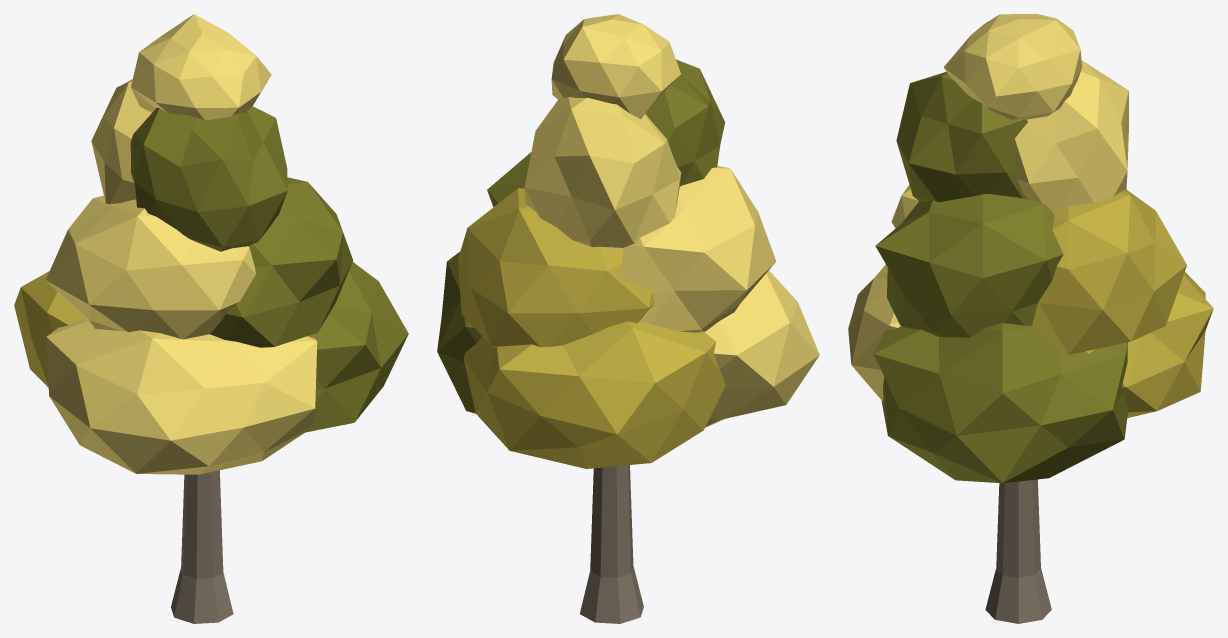
File: tree_beech_4.glb
3 views of the same model, side by side, from view 1: azimuth 30°, elevation 25°; view 2: azimuth 150°, elevation 25°; view 3: azimuth 270°, elevation 25° (orthographic). The views are drawn at different scales.
Parts seen in each view (by area): view 1: tree_beech_4; view 2: tree_beech_4; view 3: tree_beech_4.
Boxes of the visible parts, box(x1,y1,x2,y2) form: tree_beech_4: box(14, 14, 408, 623); tree_beech_4: box(437, 14, 819, 623); tree_beech_4: box(848, 14, 1213, 623).
Size of what is drawn, in the model's own units: 6.05 by 10.05 by 5.6.
